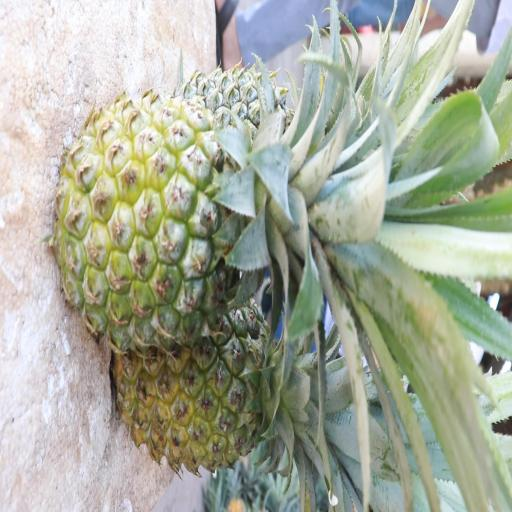------------------------------: (62, 87, 352, 341)
Pineapple - v8 v1: (114, 296, 337, 474)
